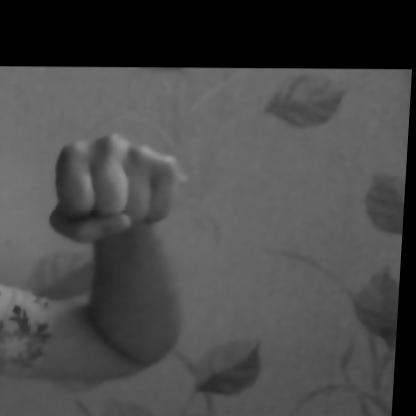fist: (13, 79, 218, 406)
